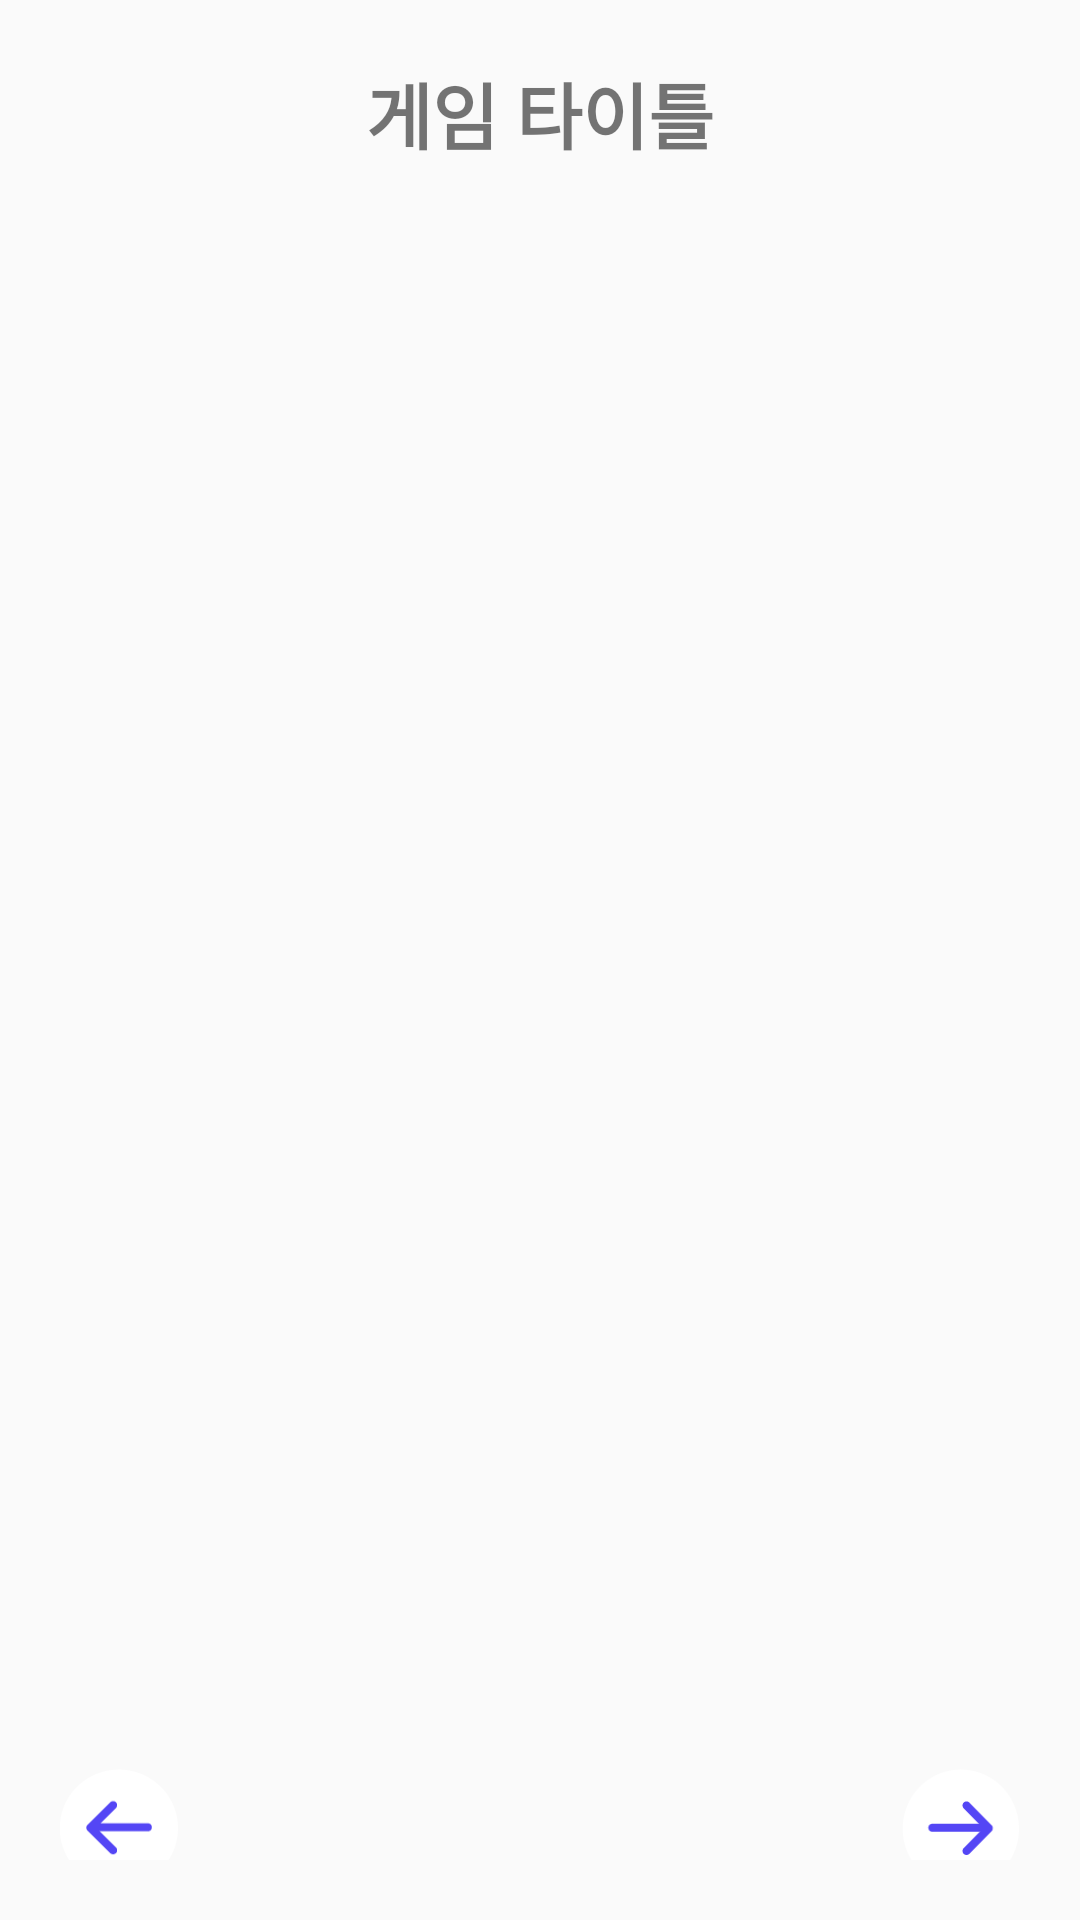

Icons on this 1080px×1920px Android screen, each with the point to tap as [x,y]:
left: [119,1828]
right: [960,1828]
